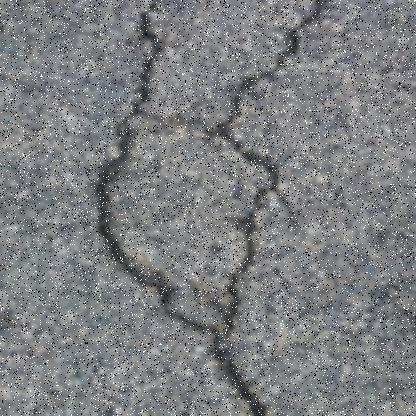Cracks: (194, 0, 339, 415), (86, 0, 236, 336)
